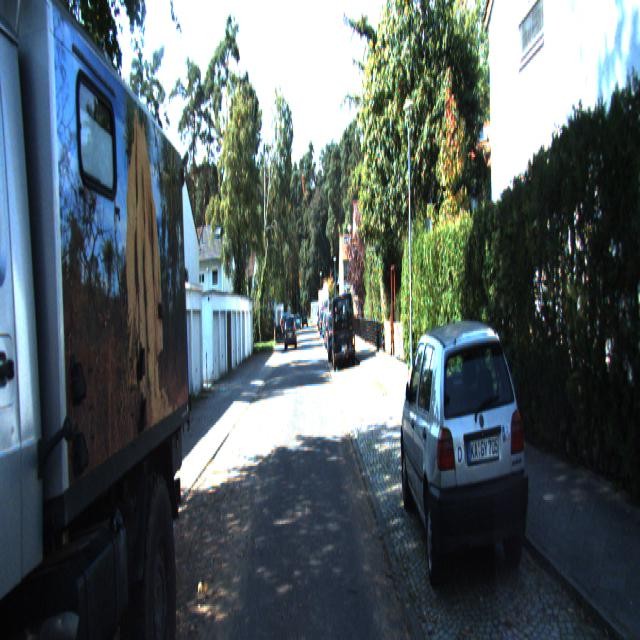Car: (0, 0, 196, 639), (396, 314, 536, 614), (331, 286, 355, 364), (284, 315, 296, 351)
